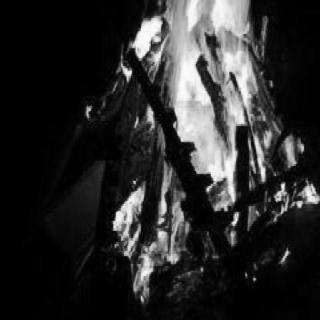Fire: (51, 2, 313, 302)
